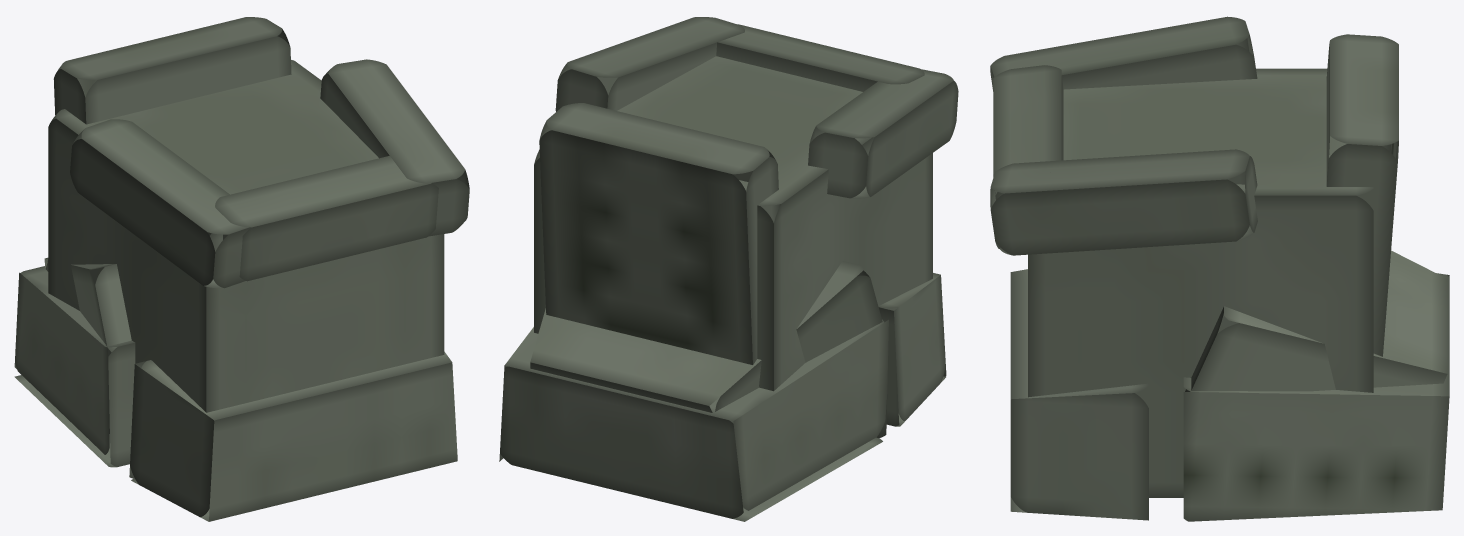
Rendered from us_veteran_b_r.obj.
3 renders of one model, left to right at view 1: azimuth 30°, elevation 25°; view 2: azimuth 150°, elevation 25°; view 3: azimuth 270°, elevation 25°, orthographic. The views are drawn at different scales.
Parts seen in each view (by area): view 1: cube; view 2: cube; view 3: cube.
Part boxes in pixels (x1,y1,x2,y2): cube: (14, 17, 469, 521); cube: (499, 17, 958, 521); cube: (990, 16, 1449, 521).
Size of the model in its own units: 0.3519 by 0.3565 by 0.4171.
